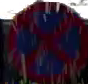No waiting: (8, 0, 87, 83)
